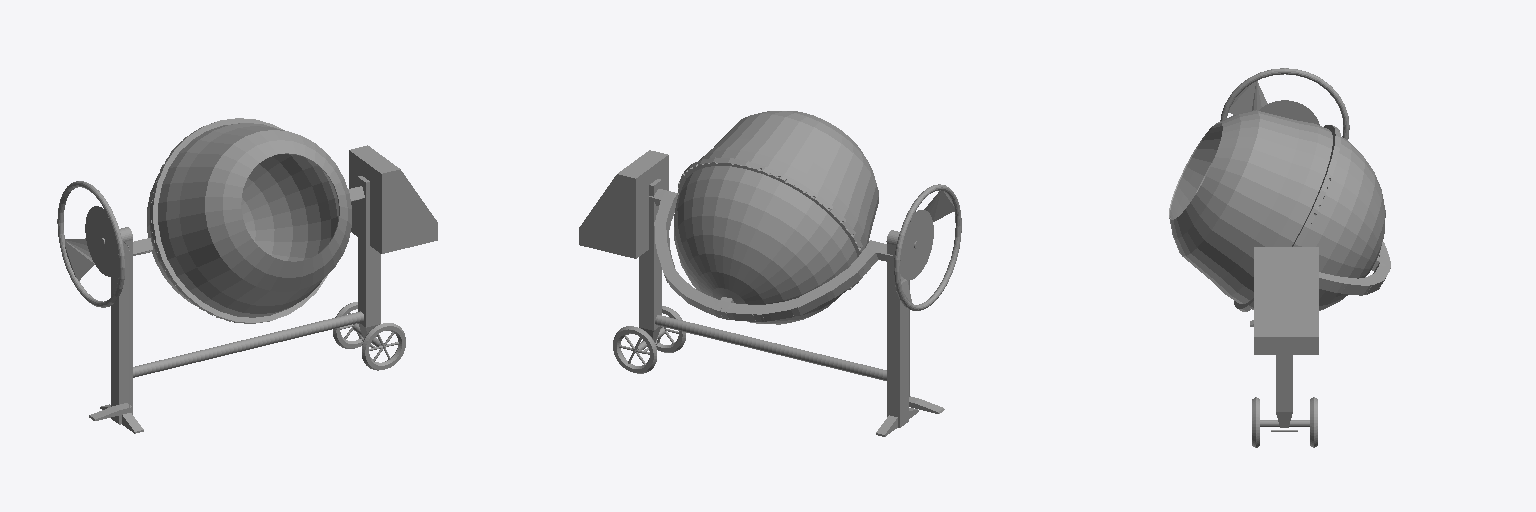
Rendered from Concrete-Mixer.obj.
The picture shows the model from 3 angles: view 1: azimuth 30°, elevation 25°; view 2: azimuth 150°, elevation 25°; view 3: azimuth 270°, elevation 25°; orthographic projection.
Visible parts, largest first — view 1: Concrete_mixer_(ROTATE_THIS)_Cube.002, Base_Concrete_mixer_Circle.002; view 2: Concrete_mixer_(ROTATE_THIS)_Cube.002, Base_Concrete_mixer_Circle.002; view 3: Concrete_mixer_(ROTATE_THIS)_Cube.002, Base_Concrete_mixer_Circle.002.
Part boxes in pixels (bbox=[...]): Concrete_mixer_(ROTATE_THIS)_Cube.002: bbox=[133, 118, 364, 323]; Base_Concrete_mixer_Circle.002: bbox=[57, 145, 437, 433]; Concrete_mixer_(ROTATE_THIS)_Cube.002: bbox=[649, 111, 892, 324]; Base_Concrete_mixer_Circle.002: bbox=[579, 150, 961, 436]; Concrete_mixer_(ROTATE_THIS)_Cube.002: bbox=[1169, 110, 1390, 311]; Base_Concrete_mixer_Circle.002: bbox=[1220, 68, 1349, 447].
Bounding box in the file's own units: 3.96 × 2.99 × 2.26.